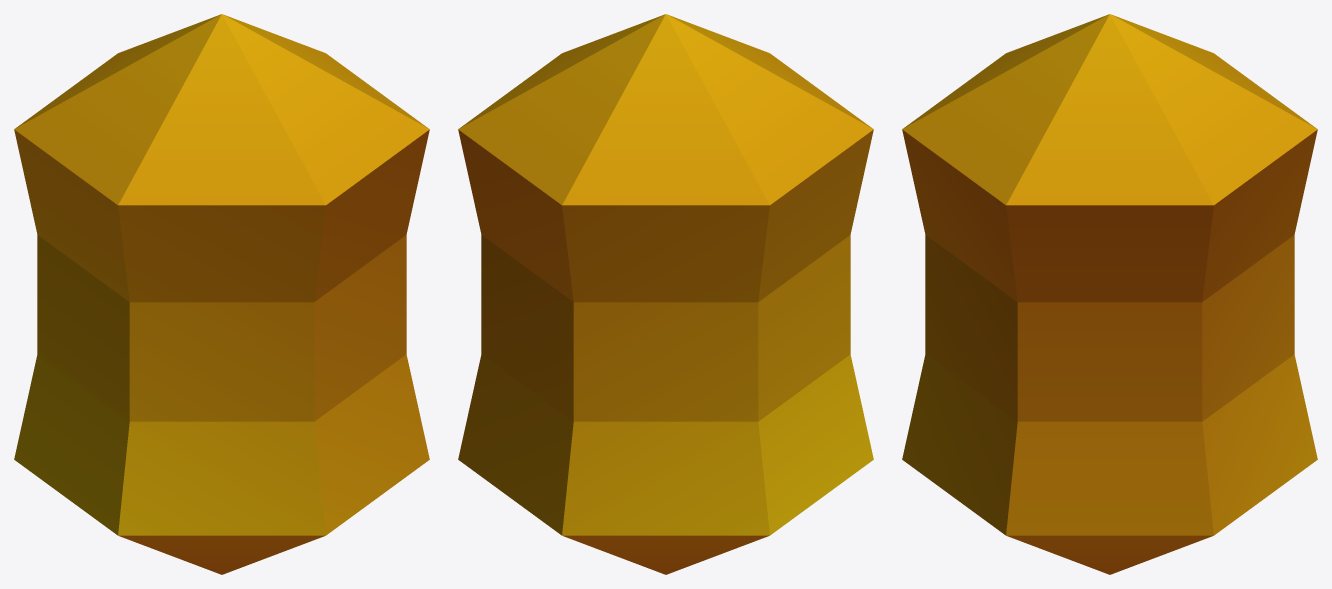
File: Topaz_03.glb
3 renders of one model, left to right at view 1: azimuth 30°, elevation 25°; view 2: azimuth 150°, elevation 25°; view 3: azimuth 270°, elevation 25°, orthographic.
Parts seen in each view (by area): view 1: Topaz_03; view 2: Topaz_03; view 3: Topaz_03.
Boxes of the visible parts, x1,y1,x2,y2 form: Topaz_03: [14, 14, 429, 574]; Topaz_03: [458, 14, 873, 574]; Topaz_03: [902, 14, 1317, 574].
Bounding box in the file's own units: 0.3108 × 0.5342 × 0.3588.
1 material, 1 textured.
